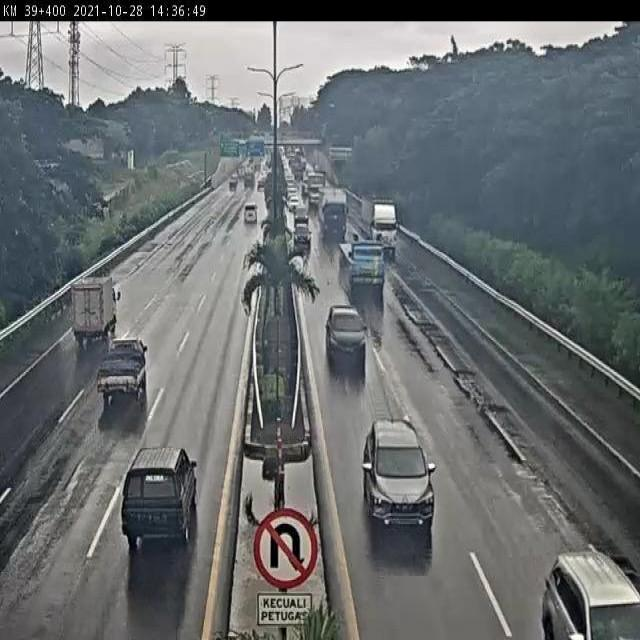big truck: (366, 195, 405, 242), (347, 248, 382, 289)
car: (550, 525, 627, 640), (367, 402, 422, 518), (110, 455, 193, 528), (326, 289, 366, 371), (238, 211, 255, 236), (297, 220, 312, 243)
small truck: (92, 328, 160, 417), (51, 284, 116, 364)
